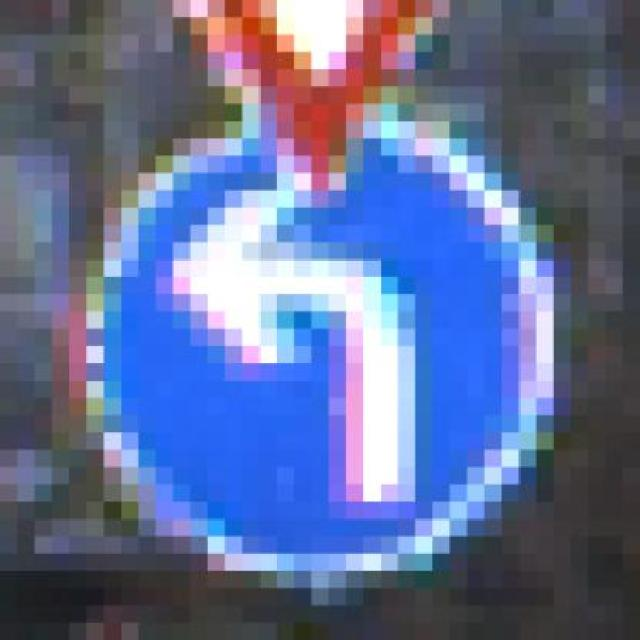Turn left ahead: (86, 86, 571, 606)
